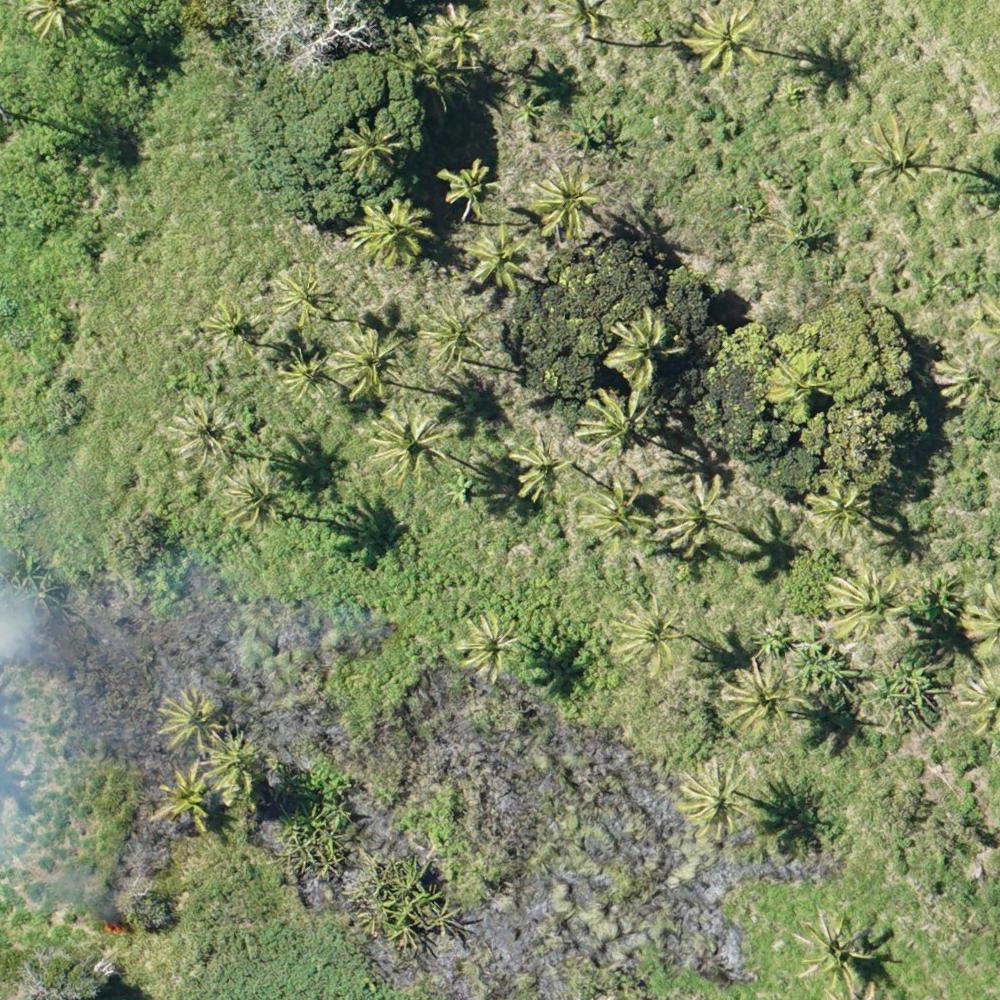Palm: (795, 904, 884, 993), (724, 654, 801, 743), (369, 407, 446, 484), (679, 761, 754, 838), (525, 164, 598, 243), (661, 472, 728, 552), (608, 308, 679, 383), (687, 6, 766, 72), (421, 297, 493, 368), (578, 478, 652, 546), (354, 198, 428, 266), (162, 394, 234, 463), (830, 566, 895, 642), (576, 390, 649, 456), (336, 331, 405, 398), (863, 125, 928, 195), (464, 224, 532, 290), (422, 1, 491, 66), (933, 349, 999, 415), (615, 597, 680, 664), (805, 478, 873, 541), (157, 688, 225, 750), (769, 355, 831, 421), (511, 434, 571, 502), (203, 730, 266, 794), (224, 462, 286, 526), (271, 267, 337, 325), (458, 613, 518, 674), (156, 765, 215, 826), (202, 299, 263, 358), (438, 156, 498, 214), (343, 119, 401, 175), (280, 346, 334, 400)
